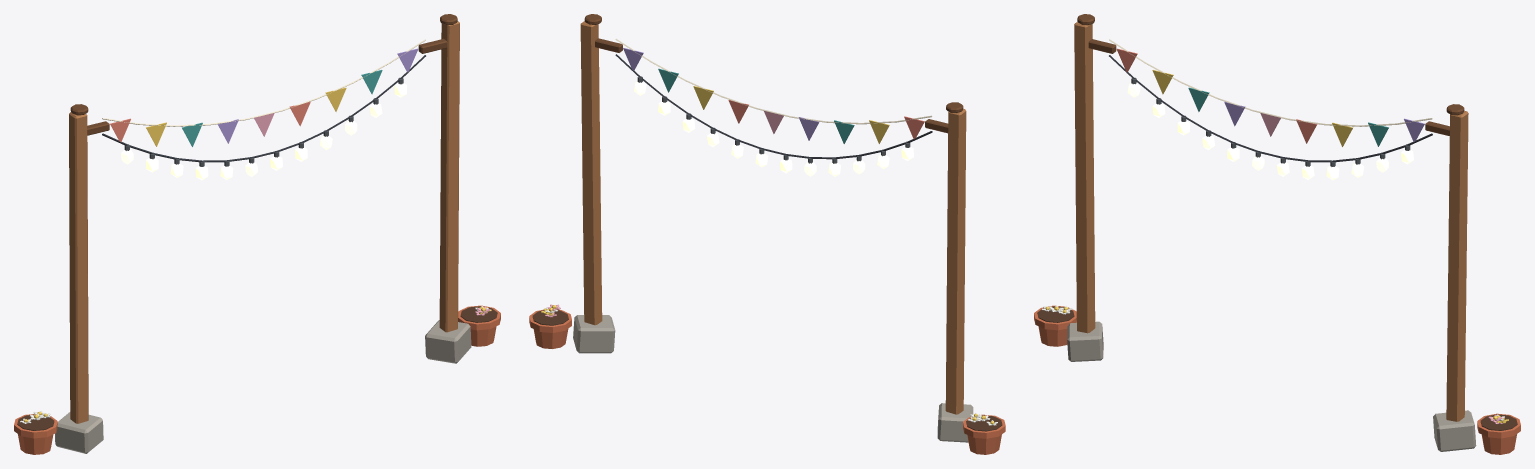
Rendered from string_lights.glb.
3 views of the same model, side by side, from view 1: azimuth 30°, elevation 25°; view 2: azimuth 150°, elevation 25°; view 3: azimuth 330°, elevation 25° (orthographic). The views are drawn at different scales.
Visible parts, largest first — view 1: String Lights; view 2: String Lights; view 3: String Lights.
Part boxes in pixels (left/top/right/bottom): String Lights: left=14, top=14, right=500, bottom=454; String Lights: left=529, top=14, right=1005, bottom=454; String Lights: left=1034, top=14, right=1520, bottom=454.
Size of the model in its own units: 4.16 by 2.8 by 0.4551.
2 materials, 1 textured.
